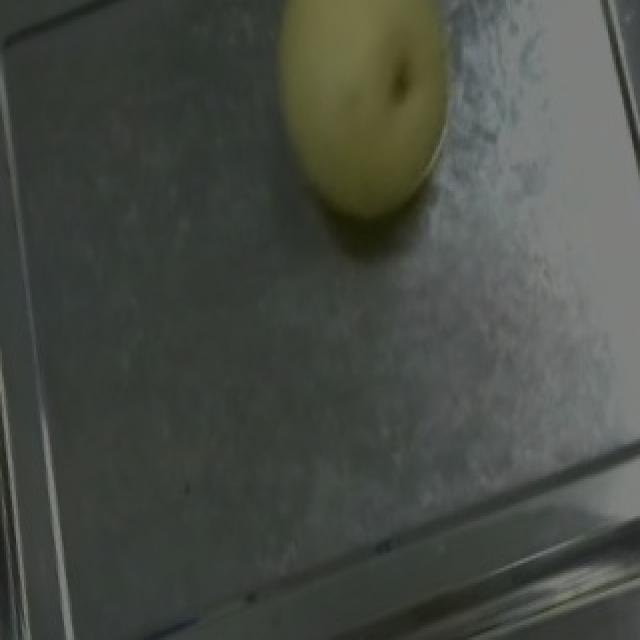Fruit: (234, 0, 498, 253)
